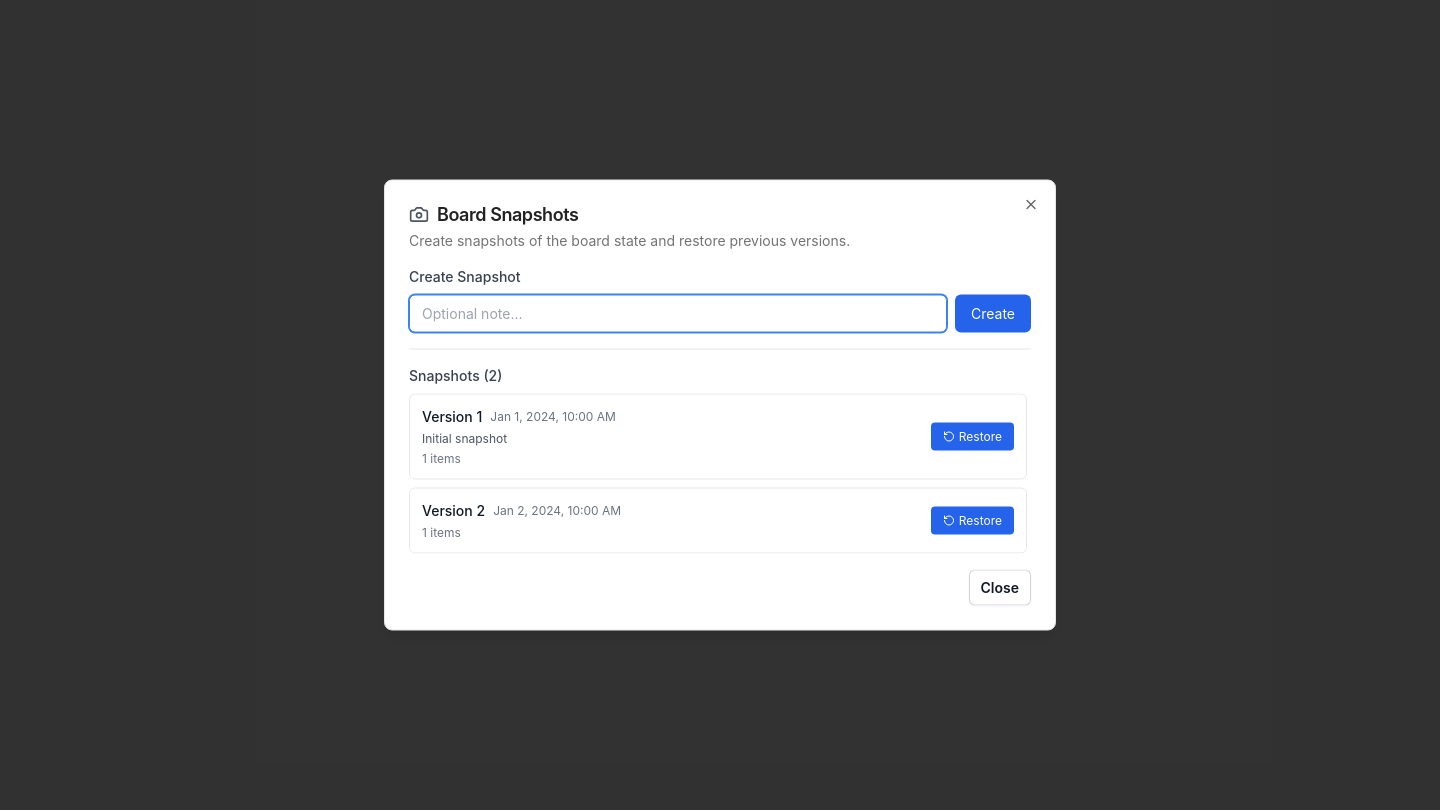
BoardSnapshotsModal Component › Restoring Snapshots › shows restore confirmation when restore button clicked
Expected: the text "Version 1" is shown, [422,406,482,426]
What coordinates should you click on to do the following:
click the button "Restore" in the row of "Initial snapshot"
I would click on:
 (972, 436)
Its box is [931,422,1014,450].
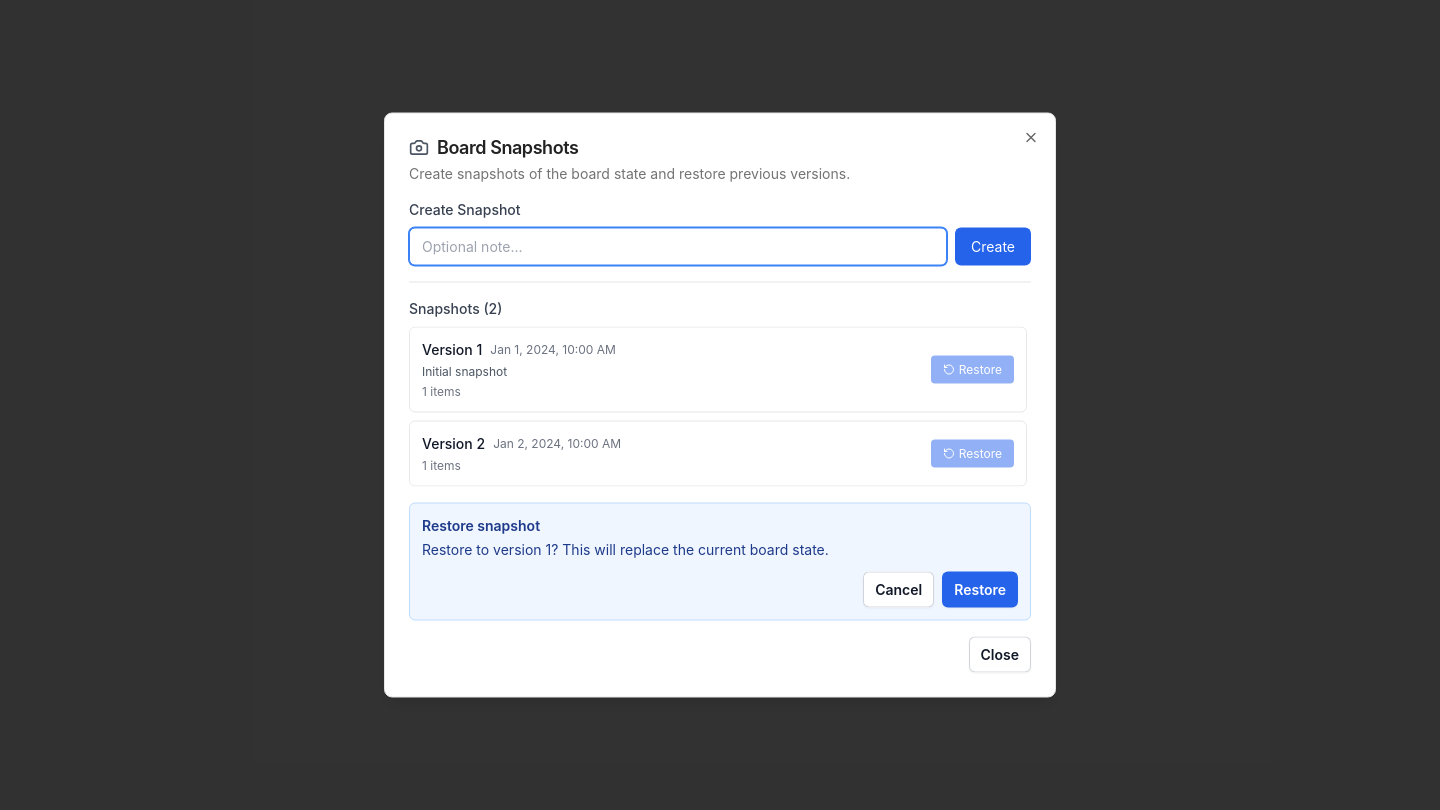
Now the text "Restore snapshot" is shown, box [422,516,540,534]
Now the text "Restore to version 1?" is shown, box [422,540,829,558]
